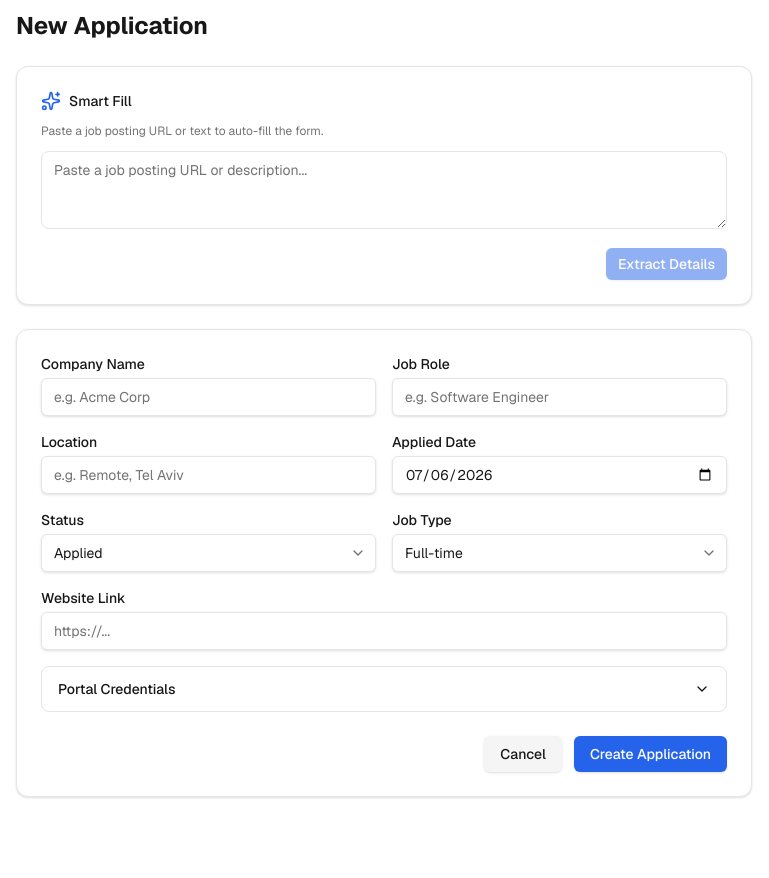
Test case: NewApplicationPage › hides credential fields again after toggling twice
Click the button "Portal Credentials". click: (117, 689)
box: [42,667,726,711]
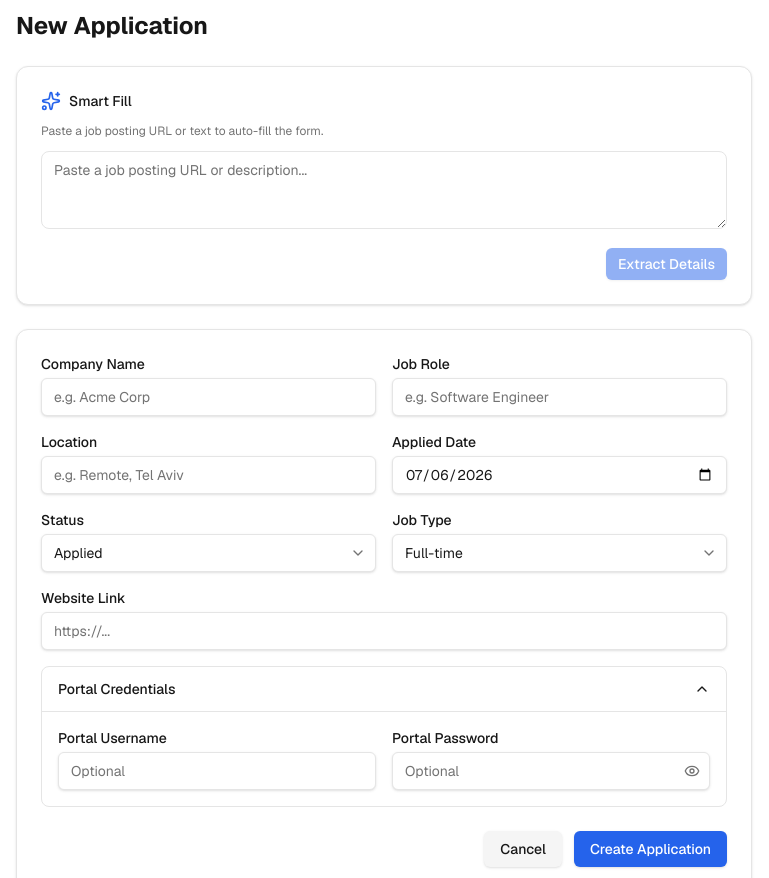
Click the button "Portal Credentials". click: (117, 689)
box: [42,667,726,711]
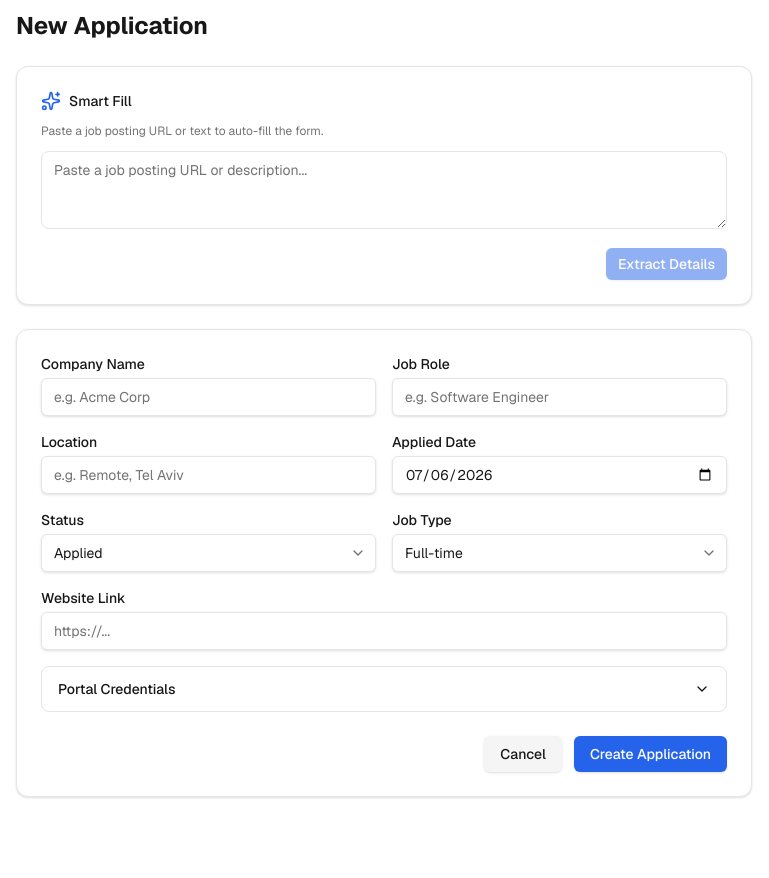
Expected: the label labelled "Portal Username" is gone
